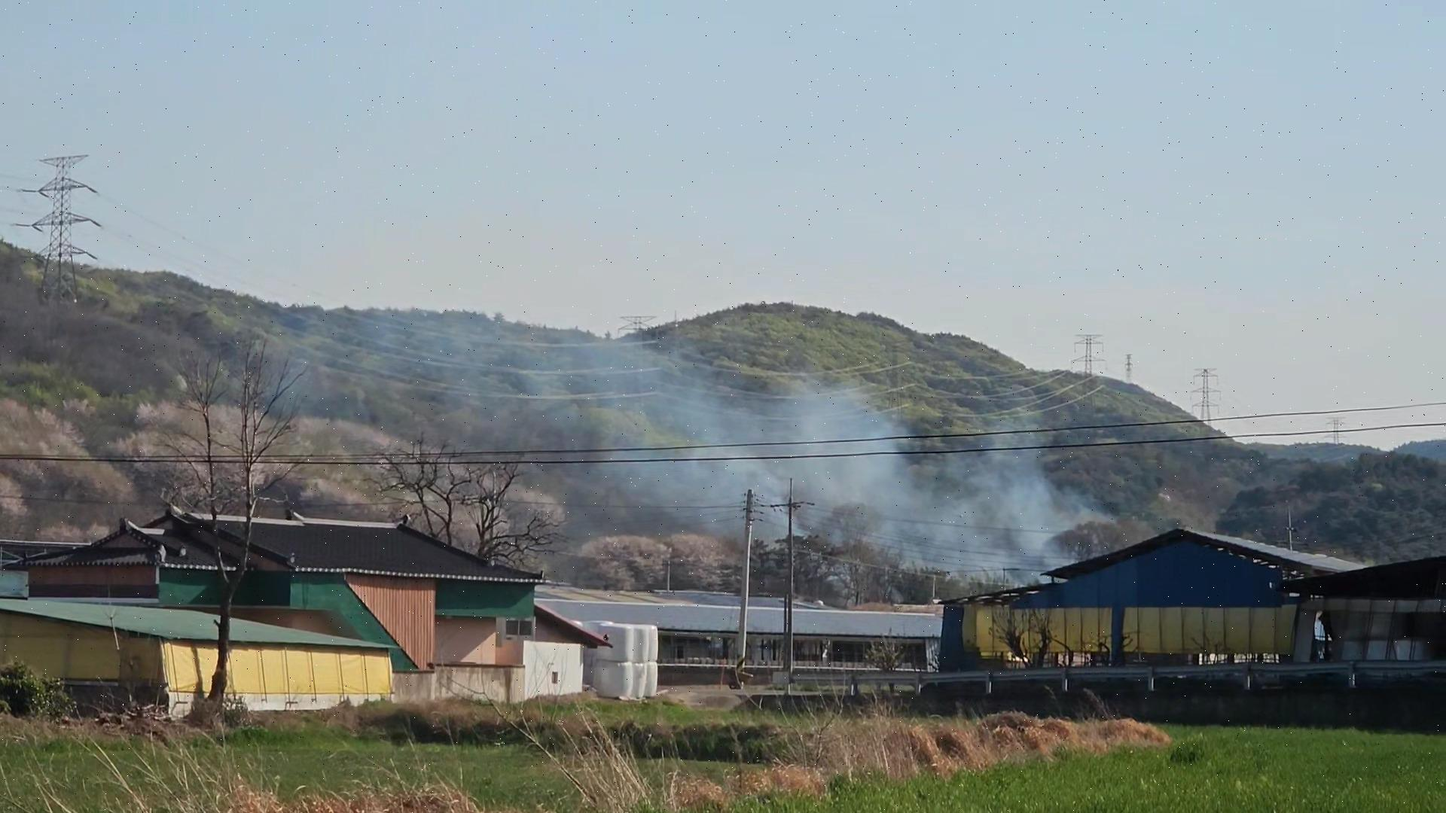smoke: (286, 303, 1114, 594)
